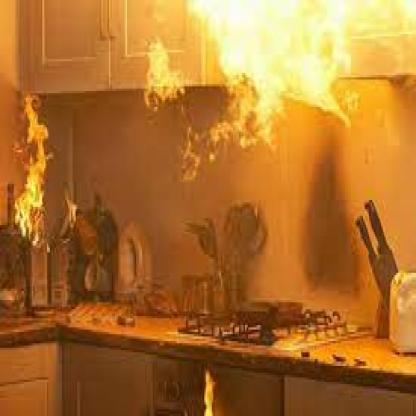fire: (132, 0, 416, 180), (16, 79, 63, 238)
